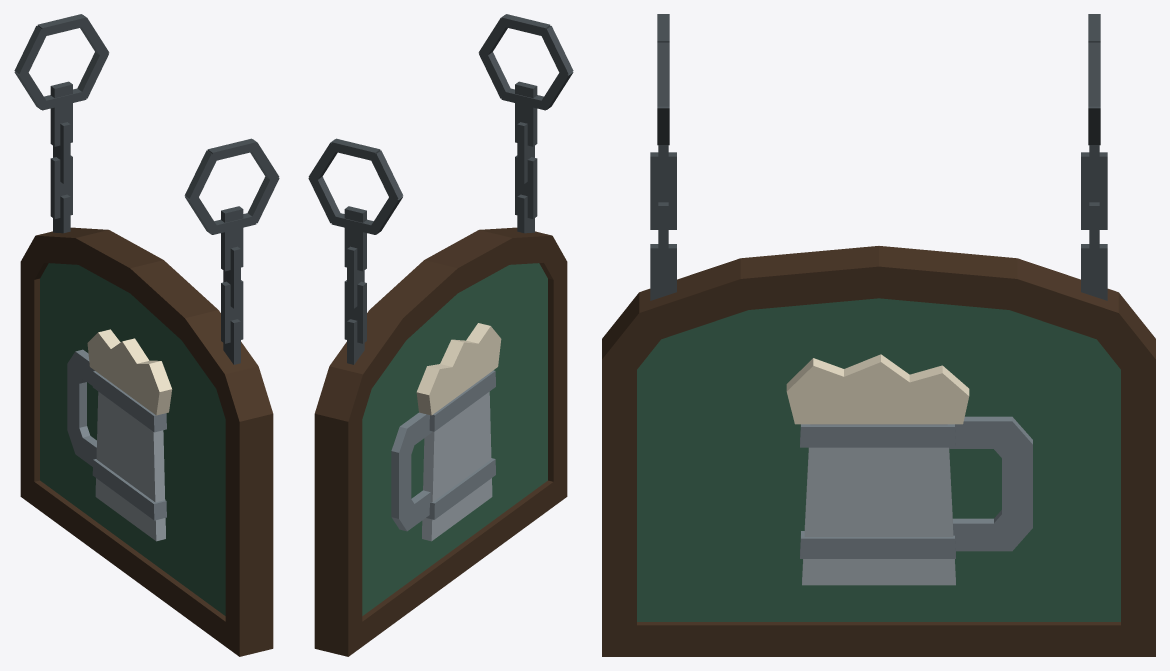
File: mdvl_village_sign_inn_01.glb
The picture shows the model from 3 angles, left to right: view 1: azimuth 30°, elevation 25°; view 2: azimuth 150°, elevation 25°; view 3: azimuth 270°, elevation 25°; orthographic projection. The views are drawn at different scales.
Parts seen in each view (by area): view 1: mdvl_village_sign_inn_01; view 2: mdvl_village_sign_inn_01; view 3: mdvl_village_sign_inn_01.
Boxes of the visible parts, left/top/right/bottom form: mdvl_village_sign_inn_01: left=14, top=14, right=279, bottom=656; mdvl_village_sign_inn_01: left=308, top=14, right=573, bottom=656; mdvl_village_sign_inn_01: left=602, top=14, right=1155, bottom=656.
Bounding box in the file's own units: 0.1282 × 0.666 × 0.54.
1 material, 1 textured.
